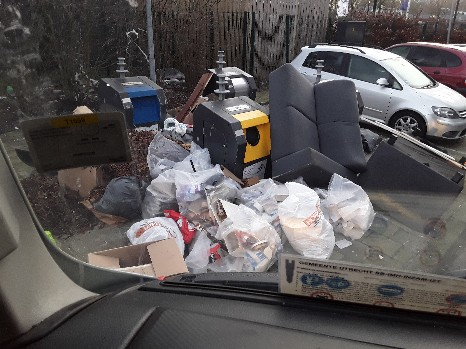Container: (202, 76, 265, 158), (108, 75, 176, 136), (204, 57, 252, 96)
Papier: (96, 239, 185, 284)
Plastic: (321, 186, 385, 240), (299, 199, 345, 268), (225, 220, 281, 267)
Rest: (272, 68, 346, 168), (215, 184, 308, 239), (168, 161, 235, 214), (146, 134, 202, 194), (112, 197, 185, 241)
Voertuig: (324, 37, 443, 142), (405, 34, 466, 94)
